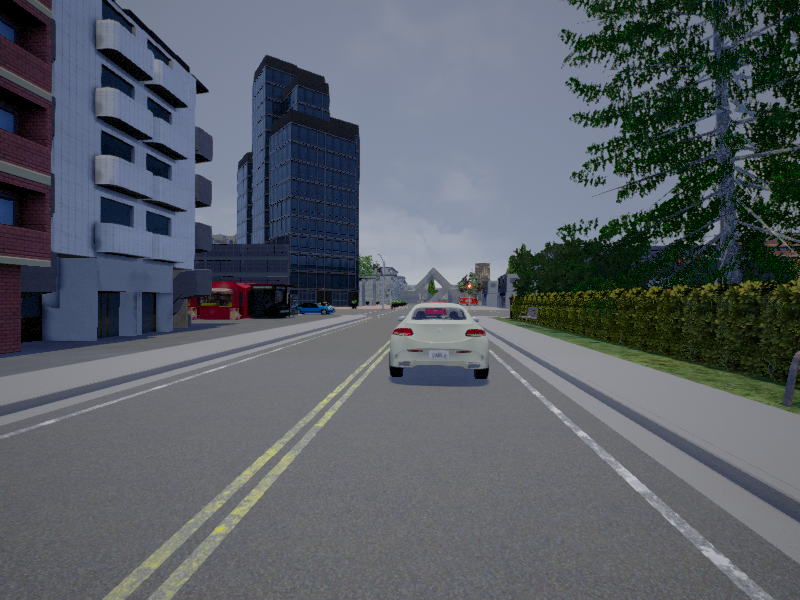Benign: (389, 304, 491, 382), (300, 301, 334, 315)
